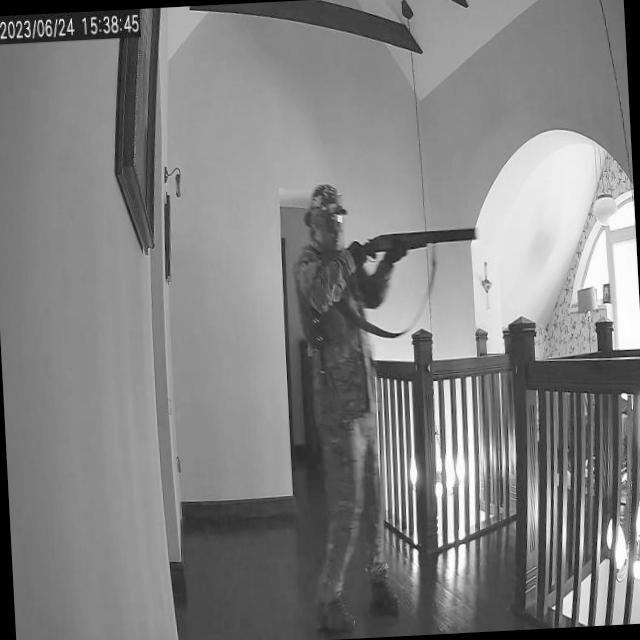gun: (342, 220, 488, 258)
person with a gun: (292, 173, 508, 630)
